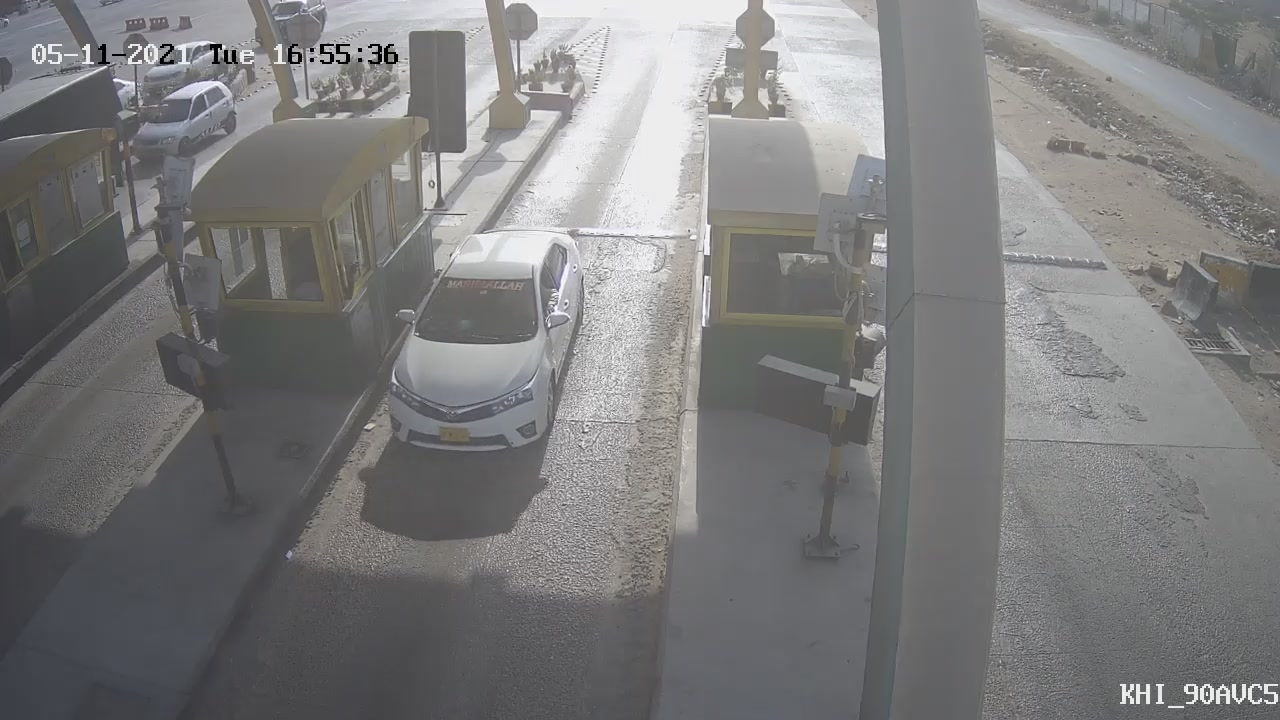F1: (360, 212, 611, 473)
